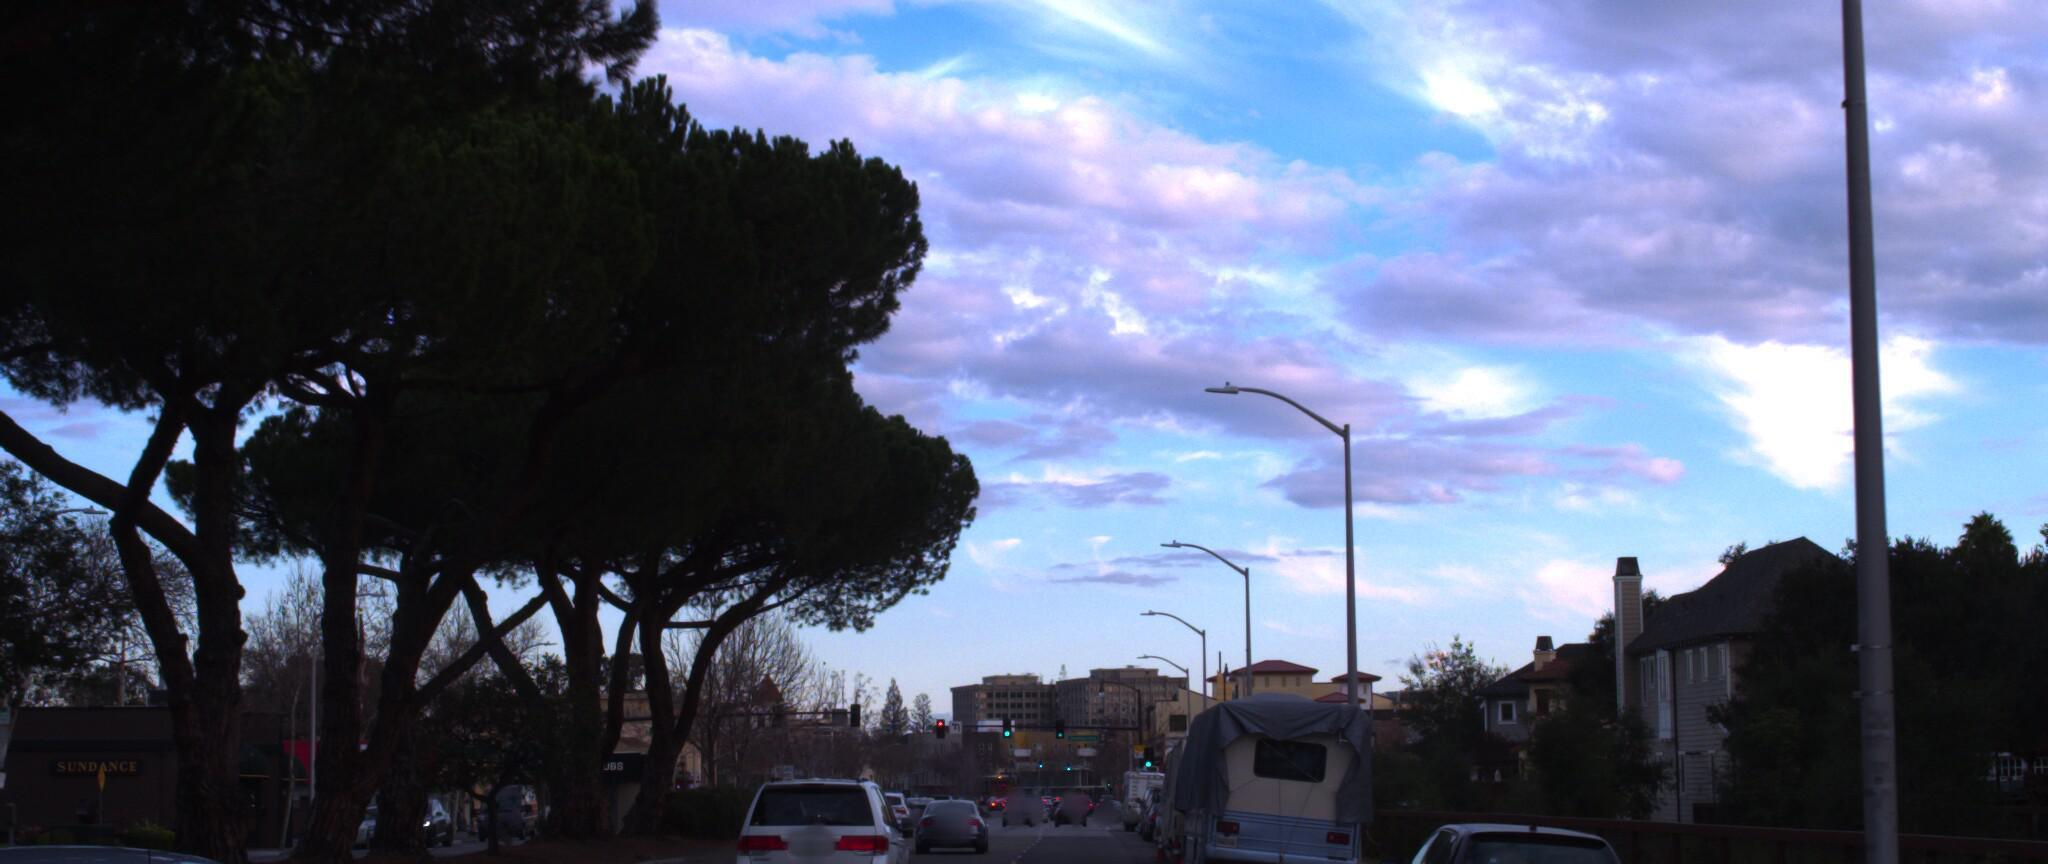car: (0, 807, 441, 864), (1343, 794, 1656, 864), (724, 750, 917, 864), (901, 762, 990, 829)
other_vehicle: (1155, 702, 1305, 851)
truck: (1168, 660, 1368, 864)
